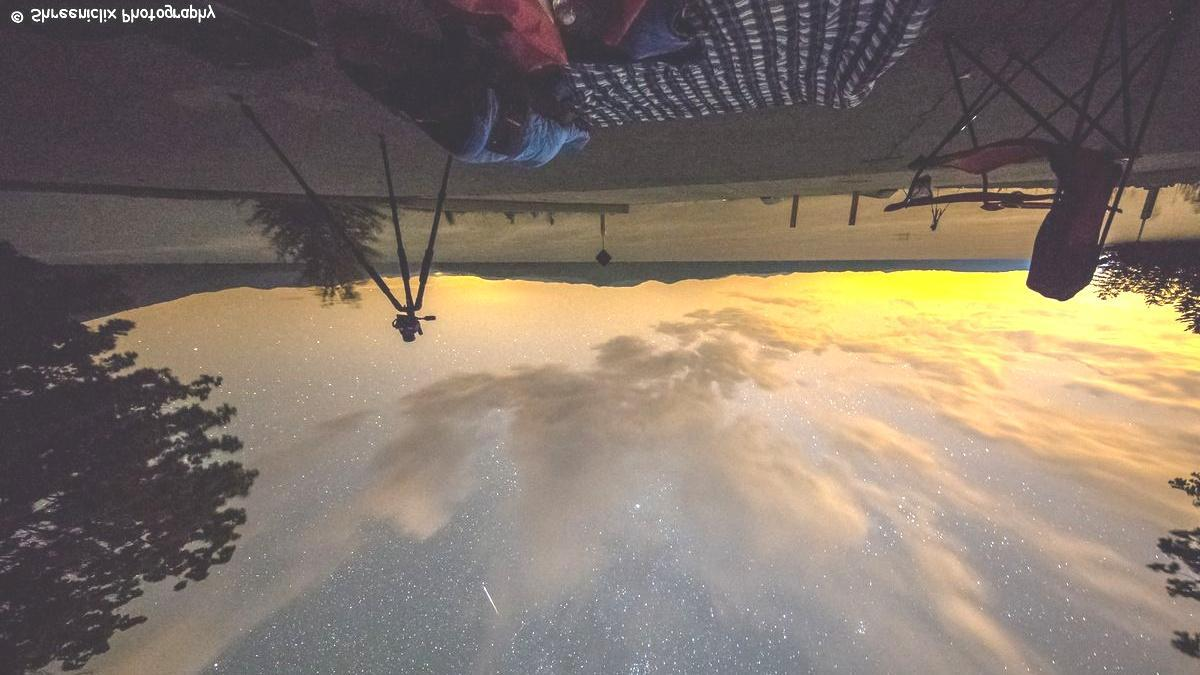meteorite: (481, 572, 513, 628)
